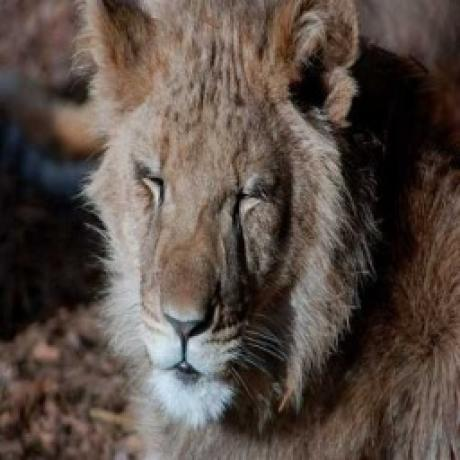Lion: (80, 0, 460, 460)
